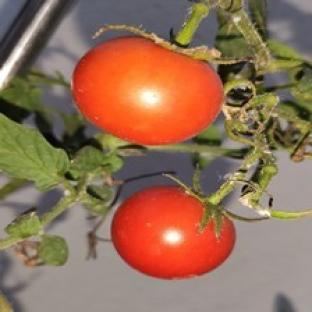Tomato: (73, 37, 222, 144), (112, 186, 235, 278)
